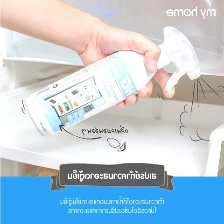cleaning_solution: (21, 23, 203, 140)
